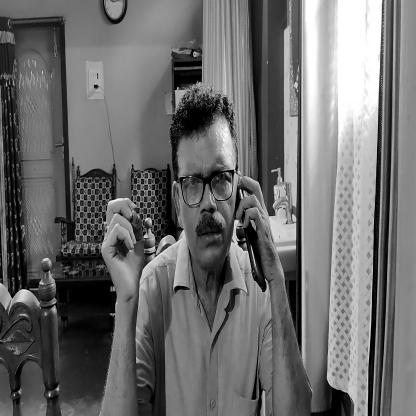Normal: (168, 83, 241, 275)
